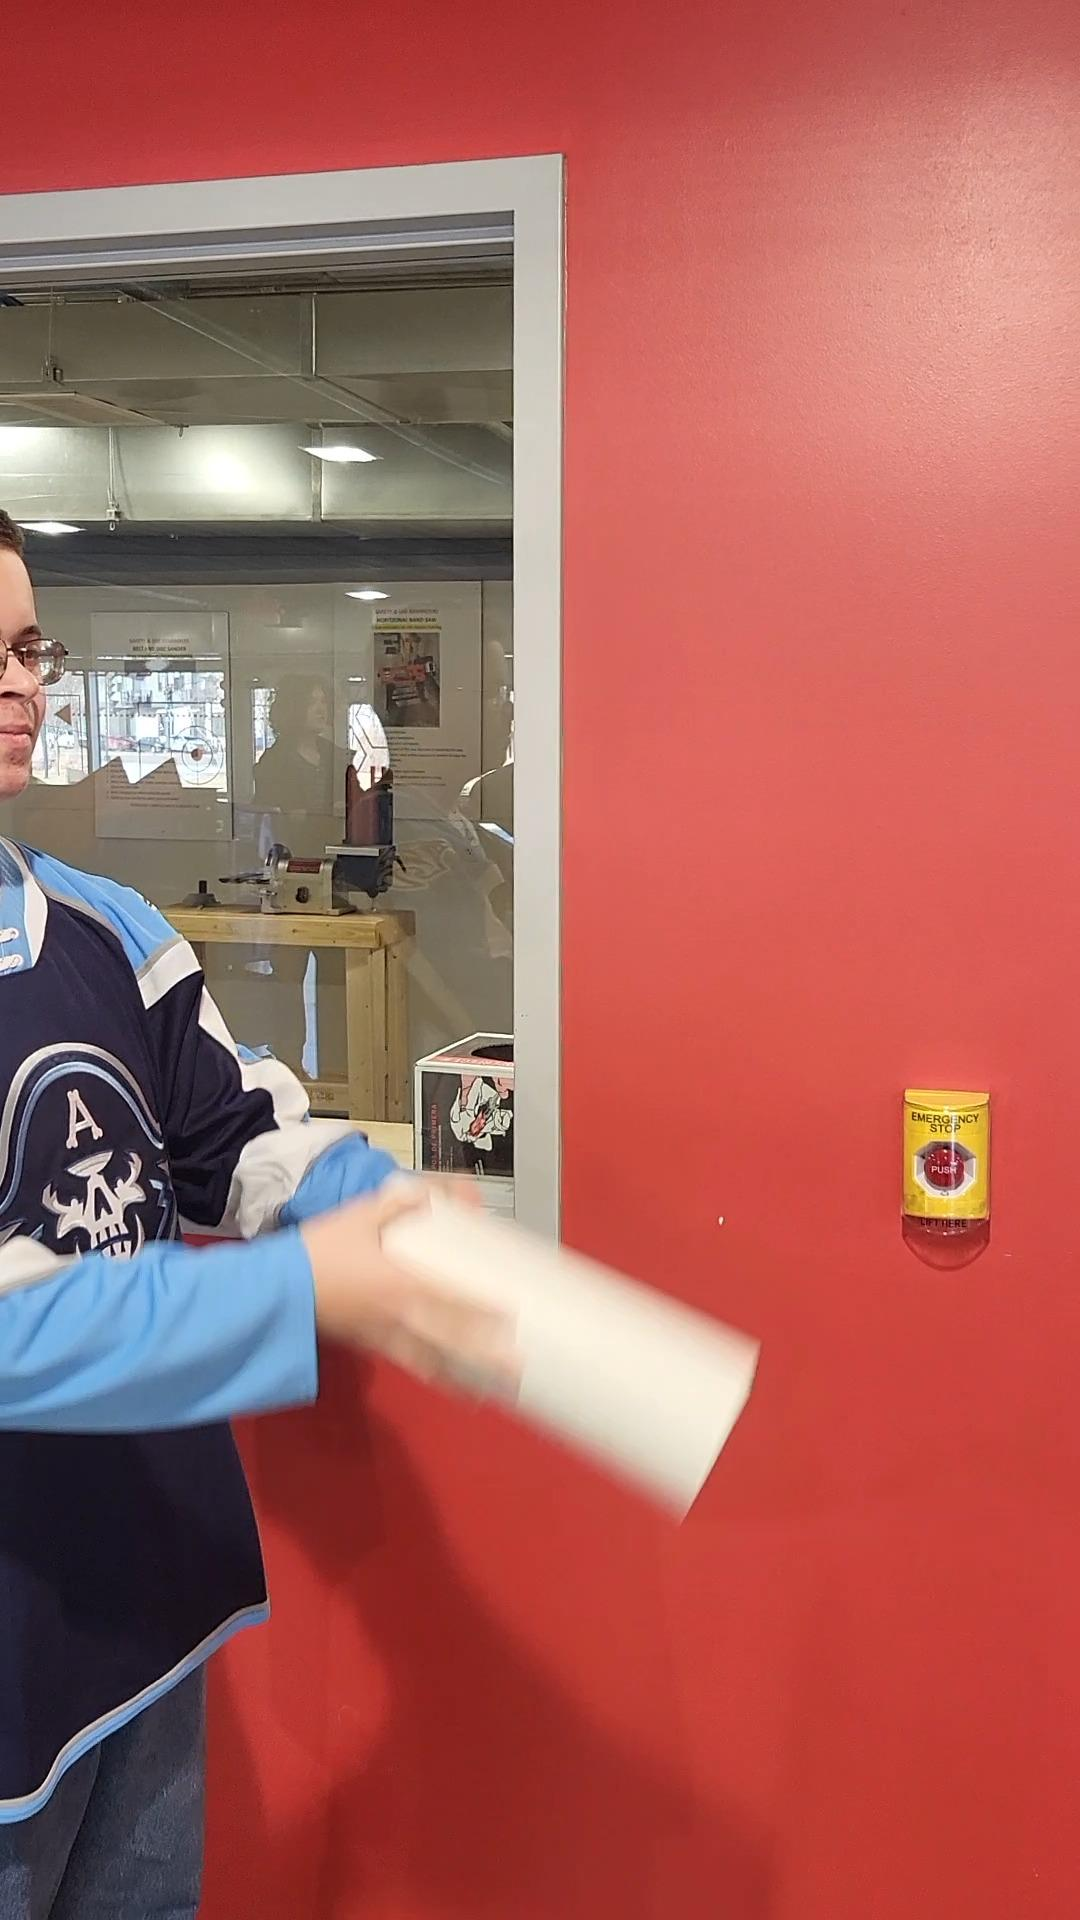coral: (347, 1167, 770, 1527)
